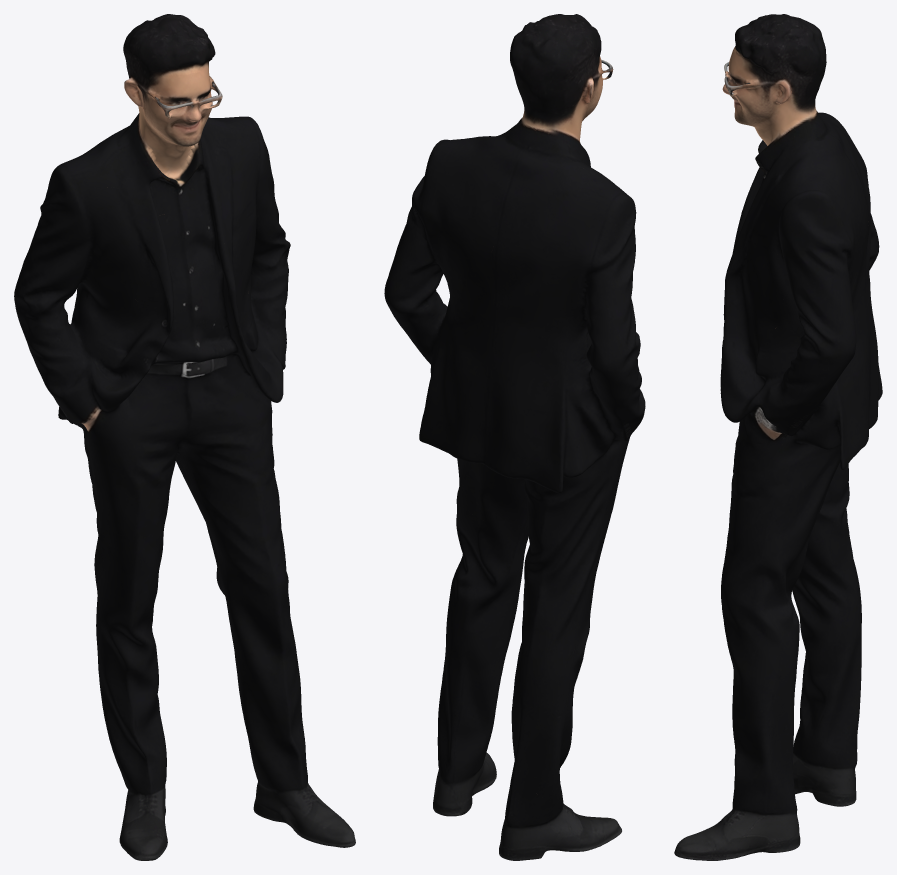
Rendered from sheryar.glb.
The picture shows the model from 3 angles, left to right: view 1: azimuth 30°, elevation 25°; view 2: azimuth 150°, elevation 25°; view 3: azimuth 270°, elevation 25°; orthographic projection. The views are drawn at different scales.
Size of the model in its own units: 0.614 by 1.9 by 0.4592.
1 material, 1 textured.
